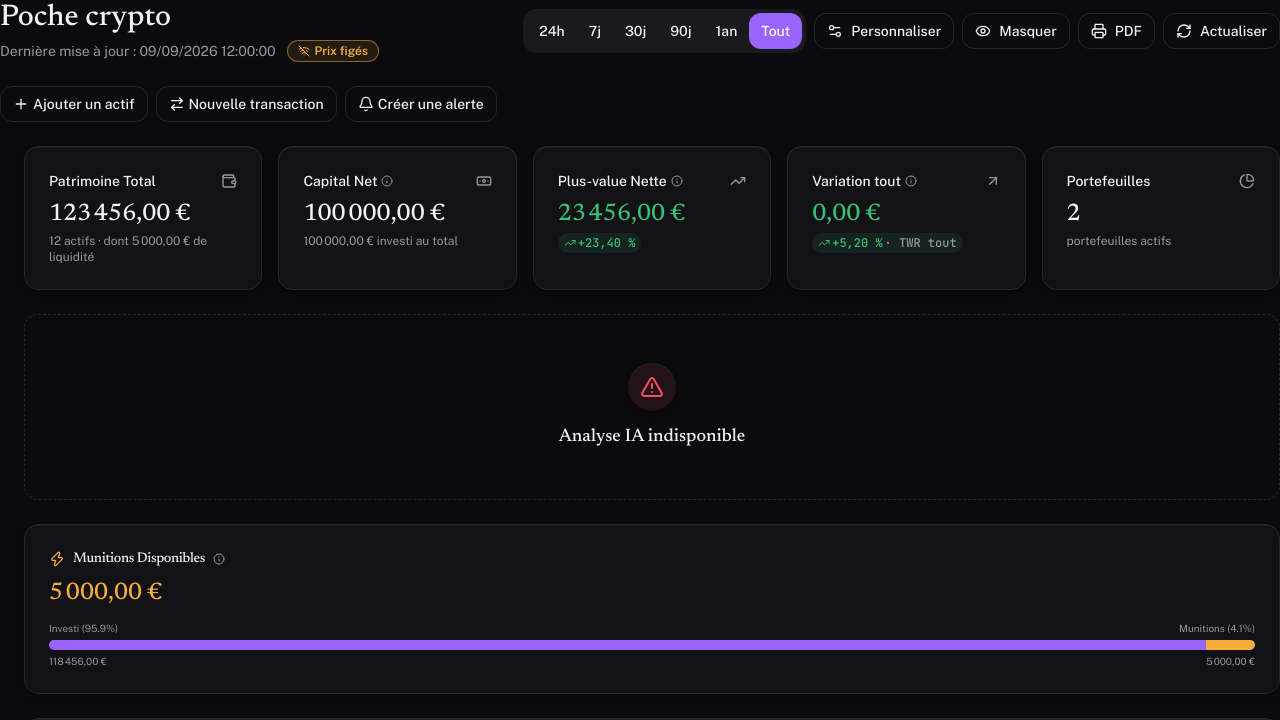
Test: le mode confidentialité › masque les montants d’un seul geste, panneau des transactions compris
Step 1. Click the button "Masquer" → (1016, 31), box left=962, top=13, right=1070, bottom=49
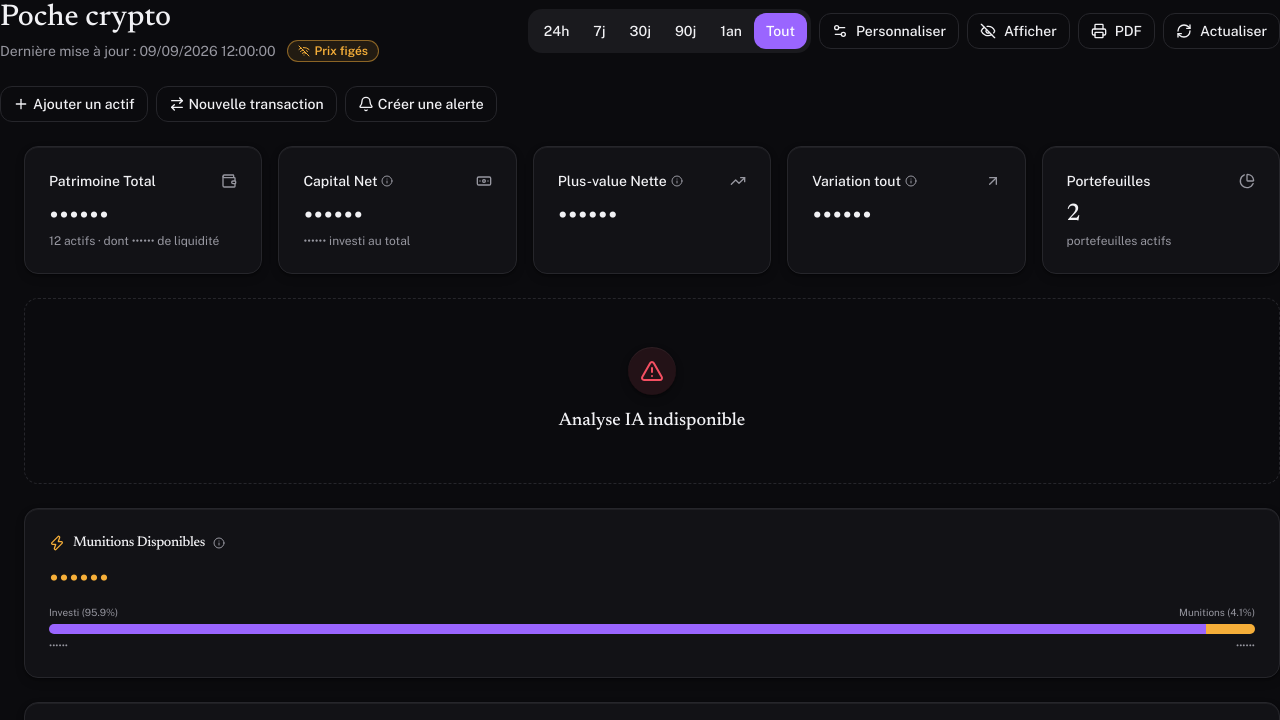
Expected: the text "123 456,00 €" is gone
